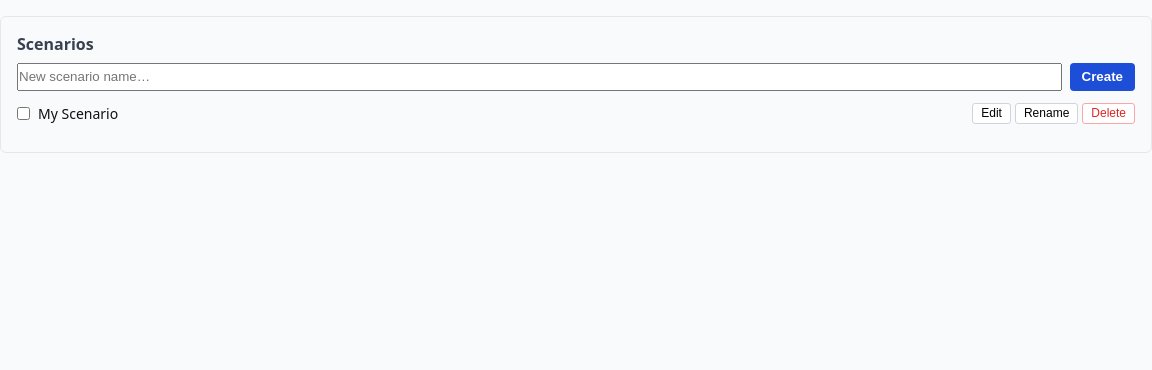
it: ScenarioManager — scenario list › shows the editor when Edit is clicked
What coordinates should you click on to do the following:
click the button "Edit"
I would click on:
 (992, 113)
Its box is [972,103,1011,124].
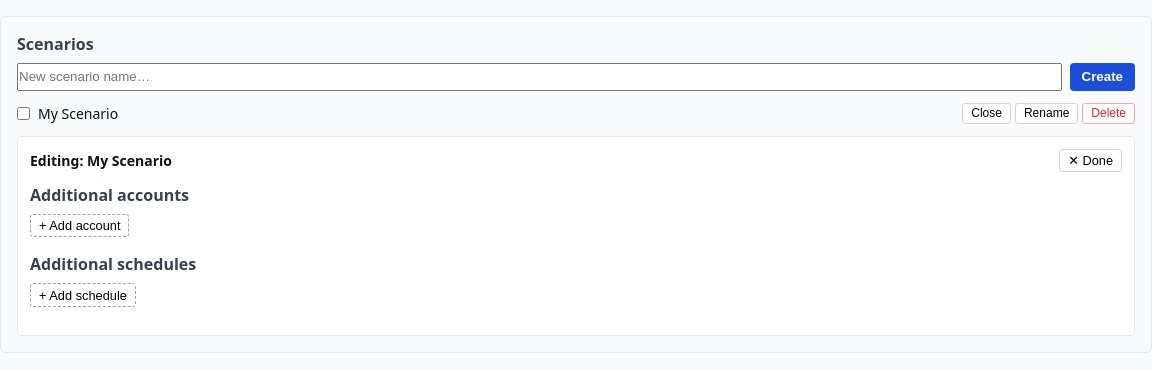
Expected: the text "Editing: My Scenario" is shown, [30,151,172,170]
